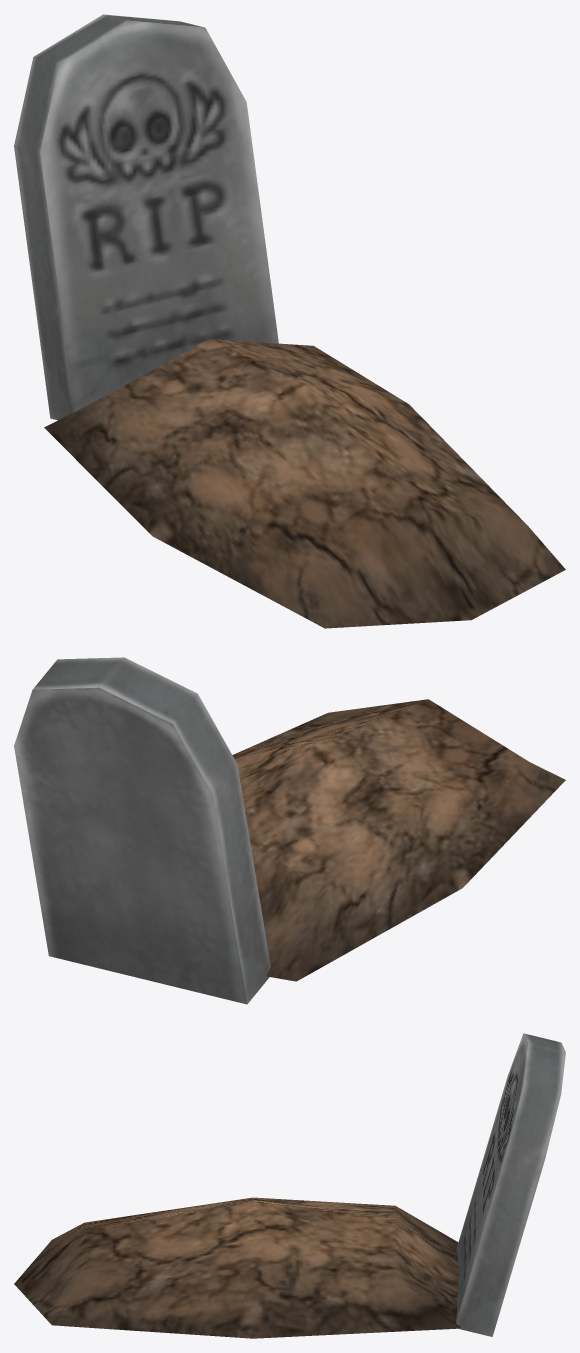
3 renders of one model, top to bottom at view 1: azimuth 30°, elevation 25°; view 2: azimuth 150°, elevation 25°; view 3: azimuth 270°, elevation 25°, orthographic. The views are drawn at different scales.
Parts seen in each view (by area): view 1: soil, tomb_stone; view 2: tomb_stone, soil; view 3: soil, tomb_stone.
Boxes of the visible parts, x1,y1,x2,y2 form: soil: [44, 339, 565, 628]; tomb_stone: [14, 14, 278, 420]; tomb_stone: [14, 657, 270, 1004]; soil: [232, 699, 565, 981]; soil: [14, 1197, 460, 1338]; tomb_stone: [456, 1033, 565, 1336].
Bounding box in the file's own units: 99.76 × 110 × 214.
2 materials, 2 textured.
